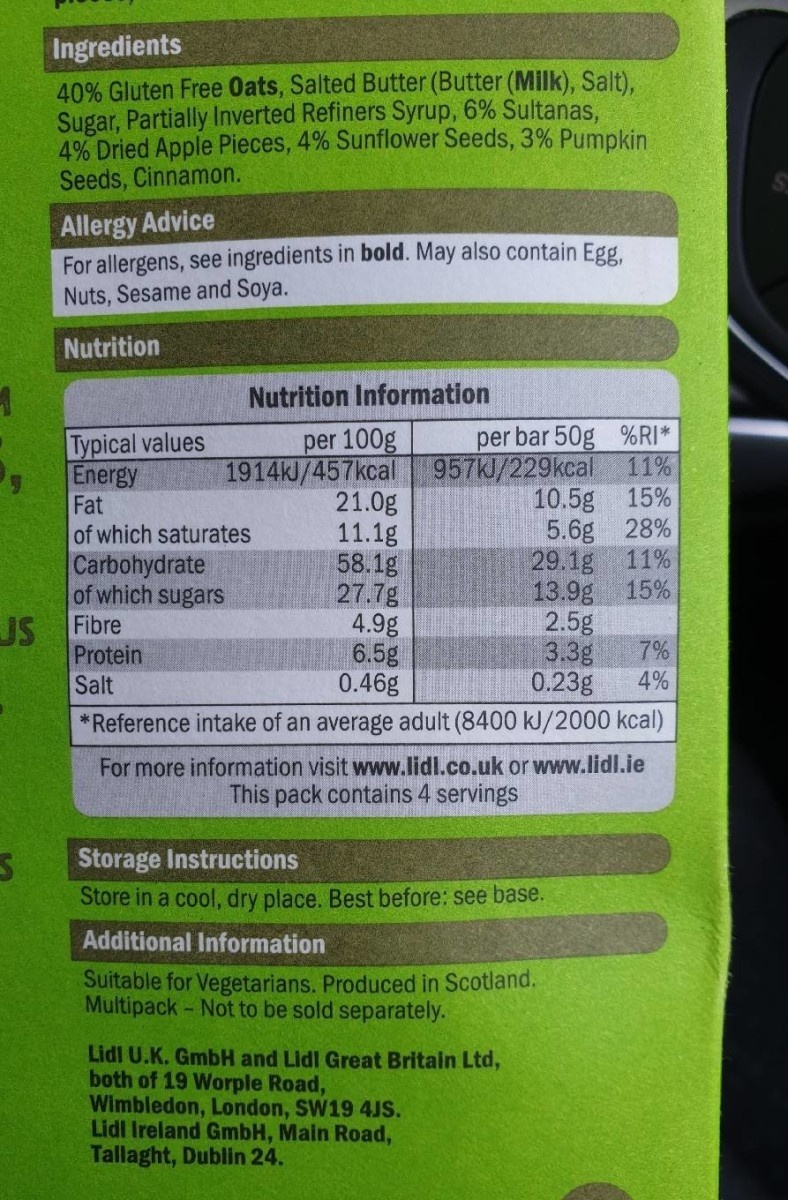column: (64, 424, 398, 702), (432, 419, 604, 696), (613, 423, 673, 693)
table: (56, 375, 687, 705)
